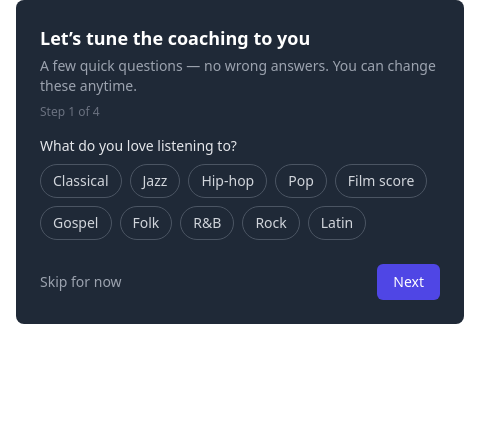
TasteOnboarding › walks through every step and renders calm, non-judgemental copy
Expected: the heading "Let’s tune the coaching to you" is shown, [40, 26, 310, 50]
Expected: the text "What do you love listening to?" is shown, [40, 136, 237, 156]
Click the button "Next" at coordinates (409, 282), box [377, 264, 440, 300]
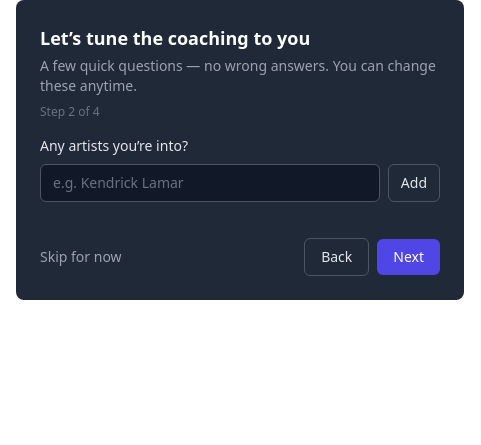
Now the text "Any artists you’re into?" is shown, box [40, 136, 188, 156]
Click the button "Next" at coordinates (409, 257), box [377, 239, 440, 275]
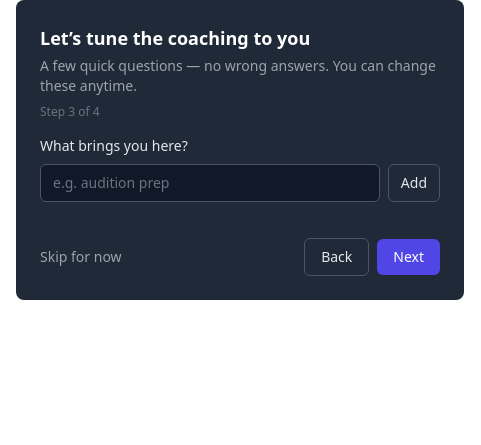
Now the text "What brings you here?" is shown, box [40, 136, 188, 156]
Click the button "Next" at coordinates (409, 257), box [377, 239, 440, 275]
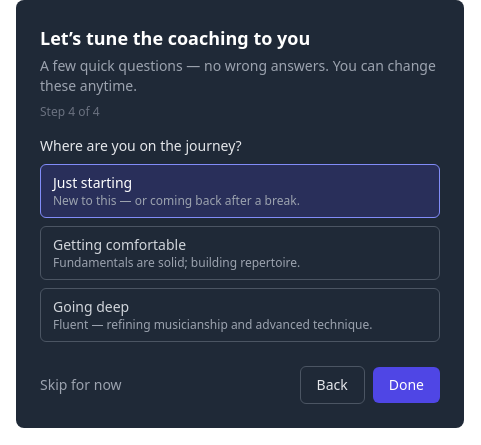
Now the text "Where are you on the journey?" is shown, box [40, 136, 242, 156]
